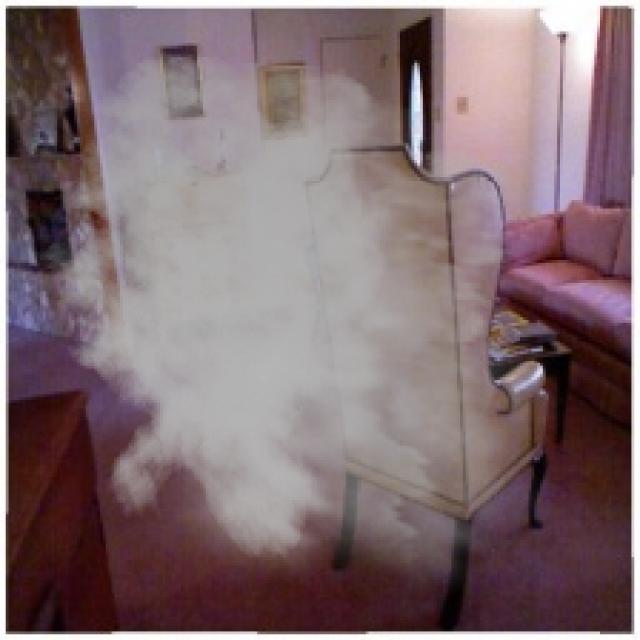Smoke: (19, 51, 574, 608)
